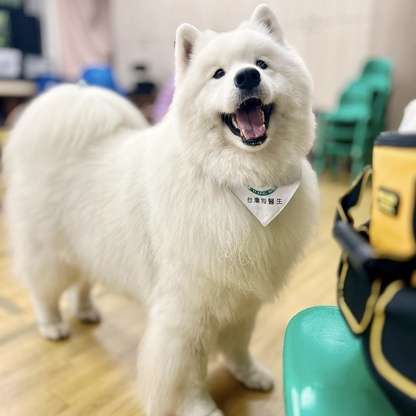samoyed: (1, 1, 329, 416)
